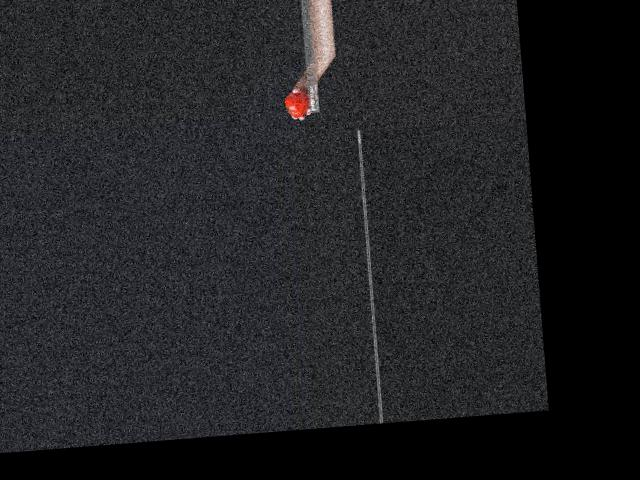tomato: (283, 91, 310, 118)
